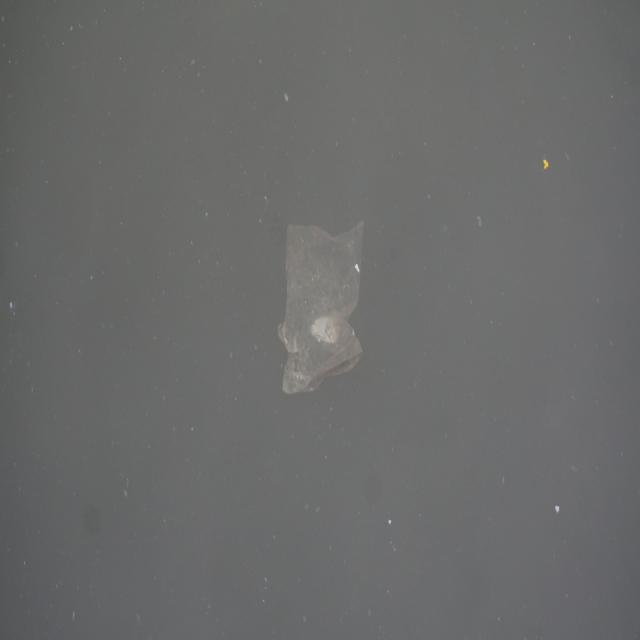Kantong Plastik: (277, 207, 373, 399)
